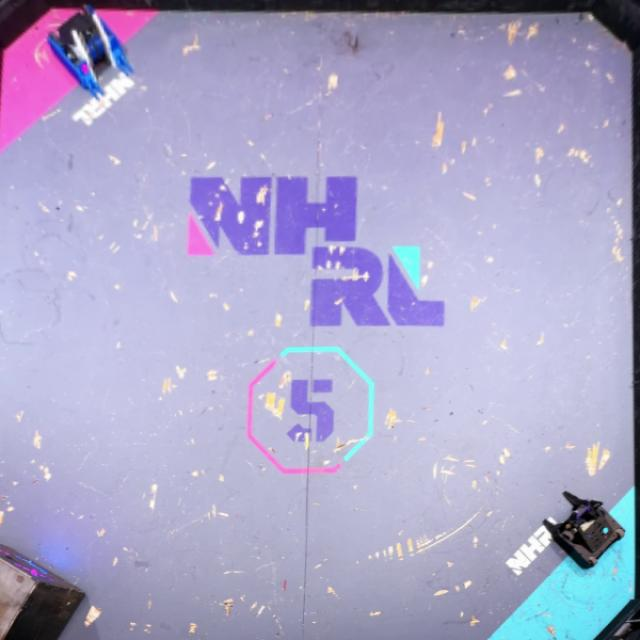housebot: (1, 543, 88, 640)
robot: (46, 7, 136, 99), (540, 492, 625, 569)
